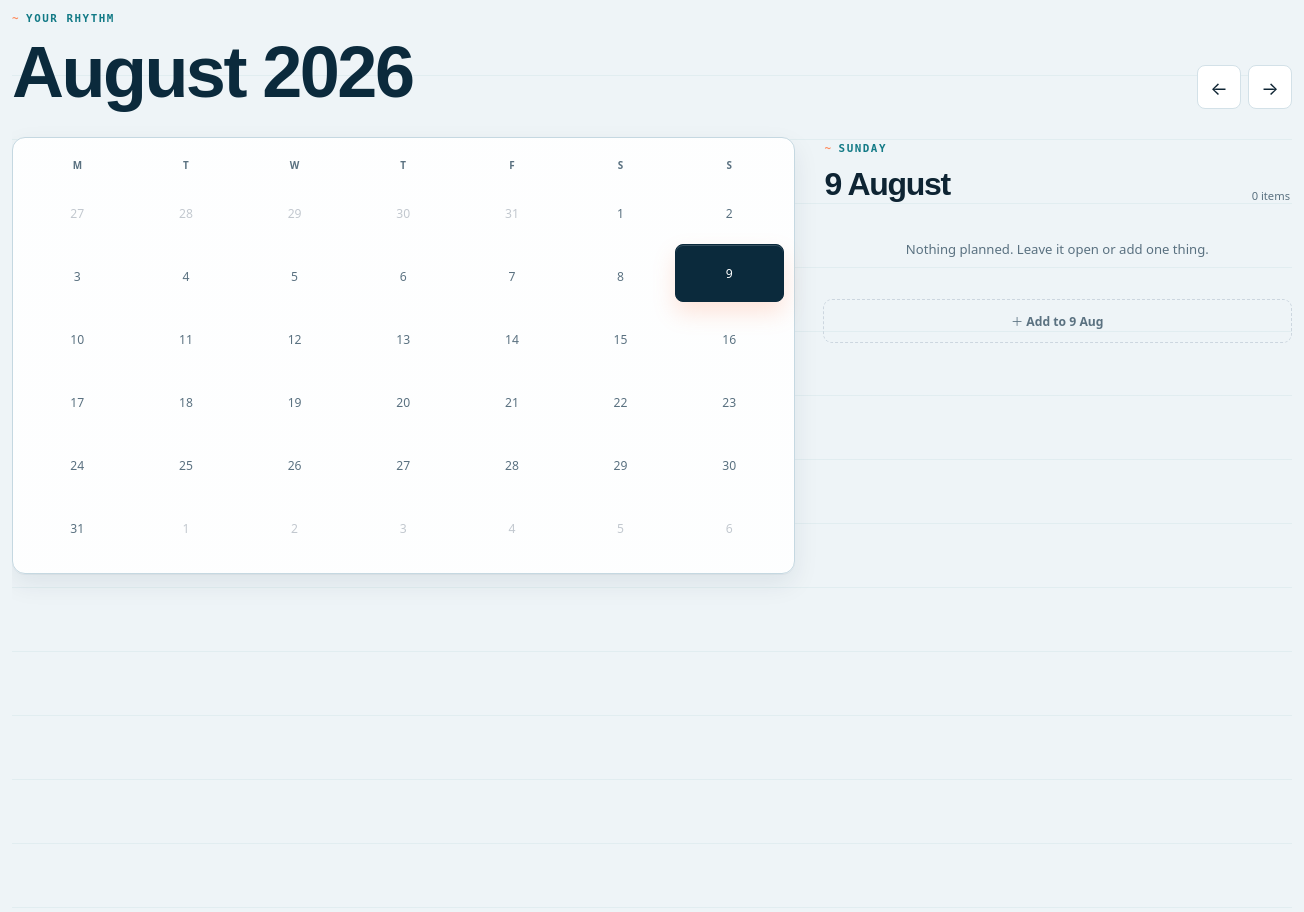
Test case: month navigation moves one calendar month
The width and height of the screenshot is (1304, 912).
Click the button named "Next month". click: click(1270, 87)
box: [1248, 65, 1292, 109]
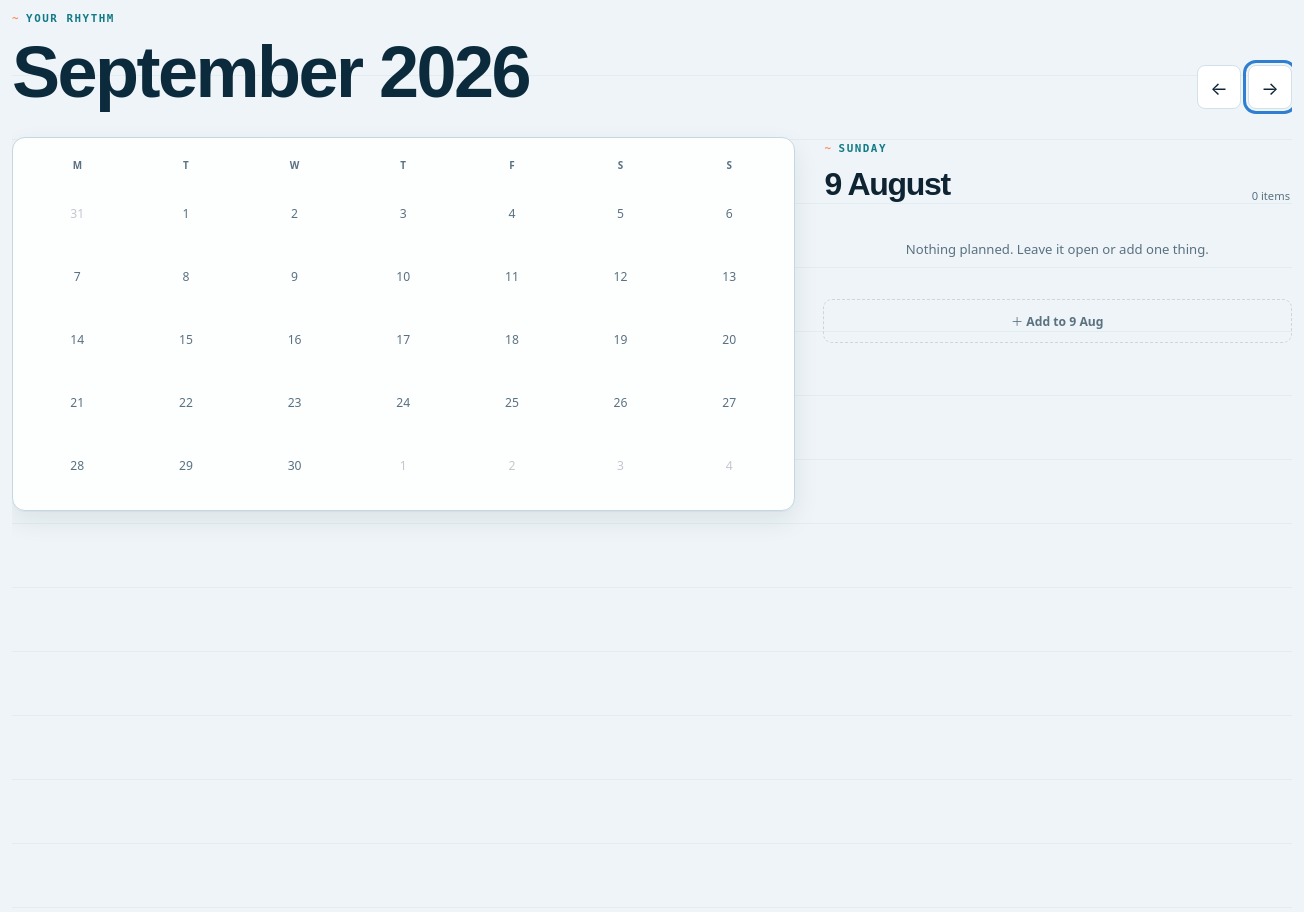
Check: the heading "September 2026" is shown, box [12, 36, 529, 109]
